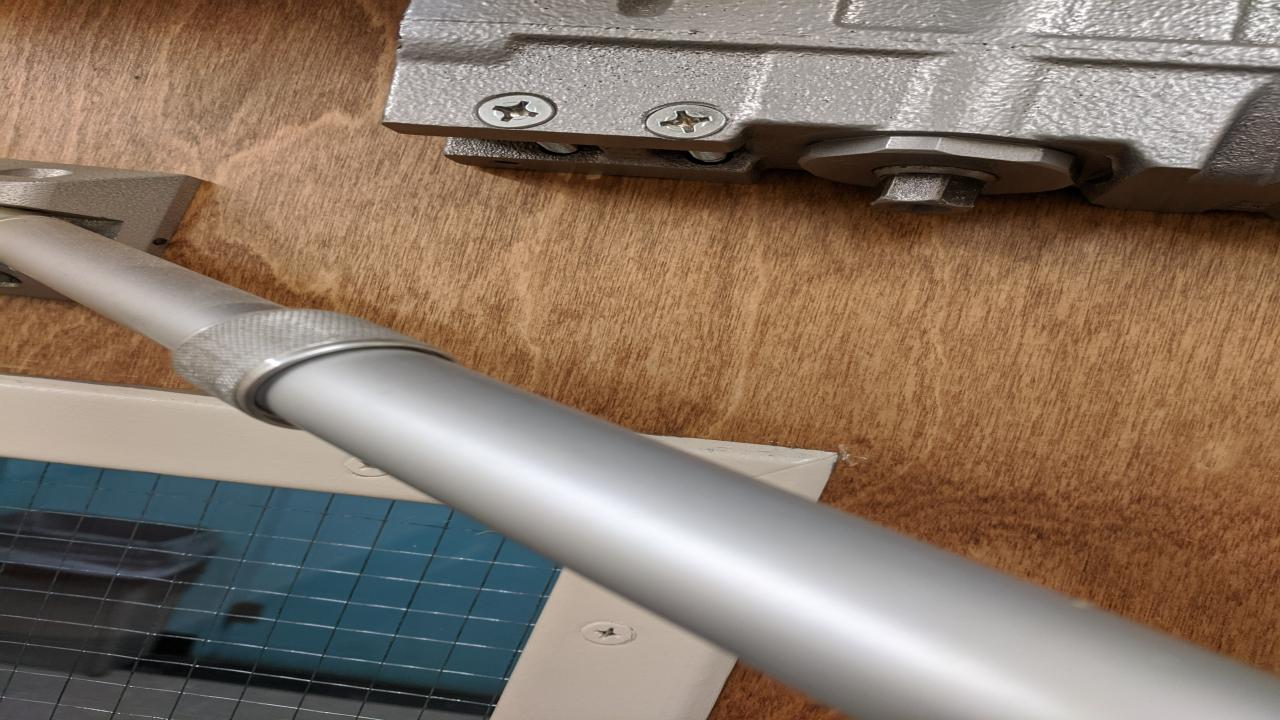CRS: (637, 102, 732, 139), (473, 93, 555, 128)
